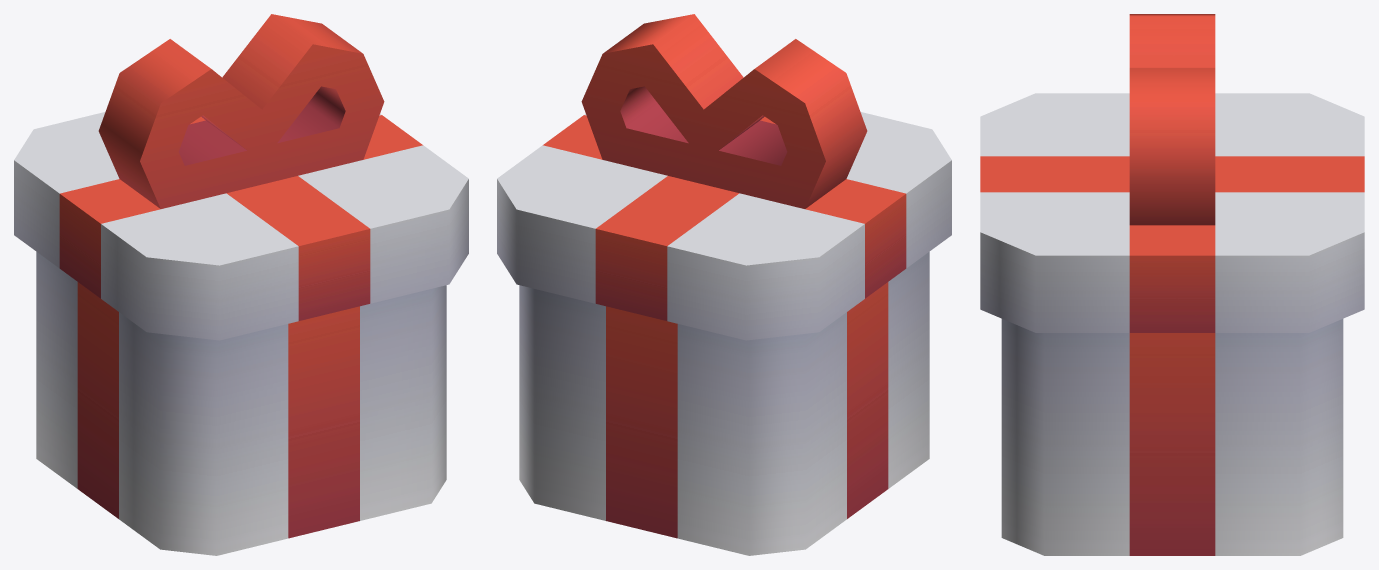
Rendered from gift_box.glb.
3 renders of one model, left to right at view 1: azimuth 30°, elevation 25°; view 2: azimuth 150°, elevation 25°; view 3: azimuth 270°, elevation 25°, orthographic. The views are drawn at different scales.
Parts seen in each view (by area): view 1: present-a-cube; view 2: present-a-cube; view 3: present-a-cube.
Part boxes in pixels (x1,y1,x2,y2): present-a-cube: [14, 14, 468, 555]; present-a-cube: [497, 14, 951, 555]; present-a-cube: [980, 14, 1364, 555].
Bounding box in the file's own units: 0.45 × 0.5707 × 0.45.
1 material, 1 textured.
